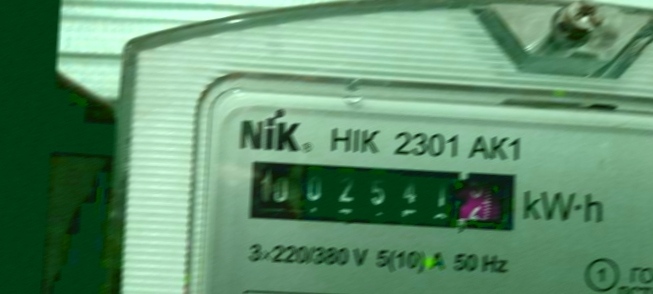0: (303, 170, 324, 204), (272, 174, 291, 204)
1: (431, 176, 449, 210)
2: (334, 171, 357, 207)
4: (400, 175, 419, 207)
5: (368, 176, 386, 209)
6: (465, 202, 483, 224)
screen: (233, 143, 538, 252)
